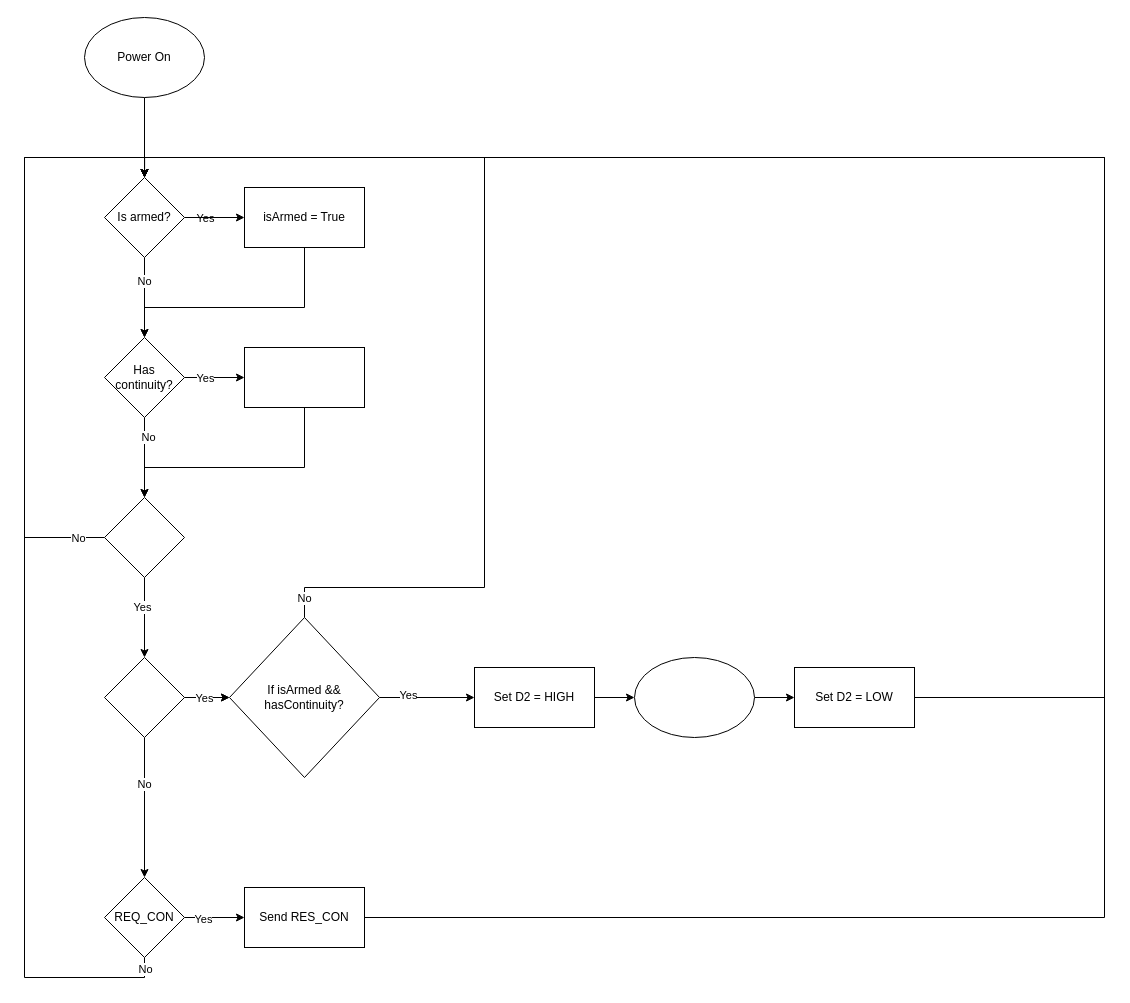
Some shapes in this 1130 by 1003 pixel diagram are drawn without their labels. Each missing label, with the centre of its shape:
"has new message?" belongs at pixel 144 537.
"hasContinuity = True" belongs at pixel 304 377.
"REQ_TRIG" belongs at pixel 144 697.
"Wait 1 sec" belongs at pixel 694 697.
